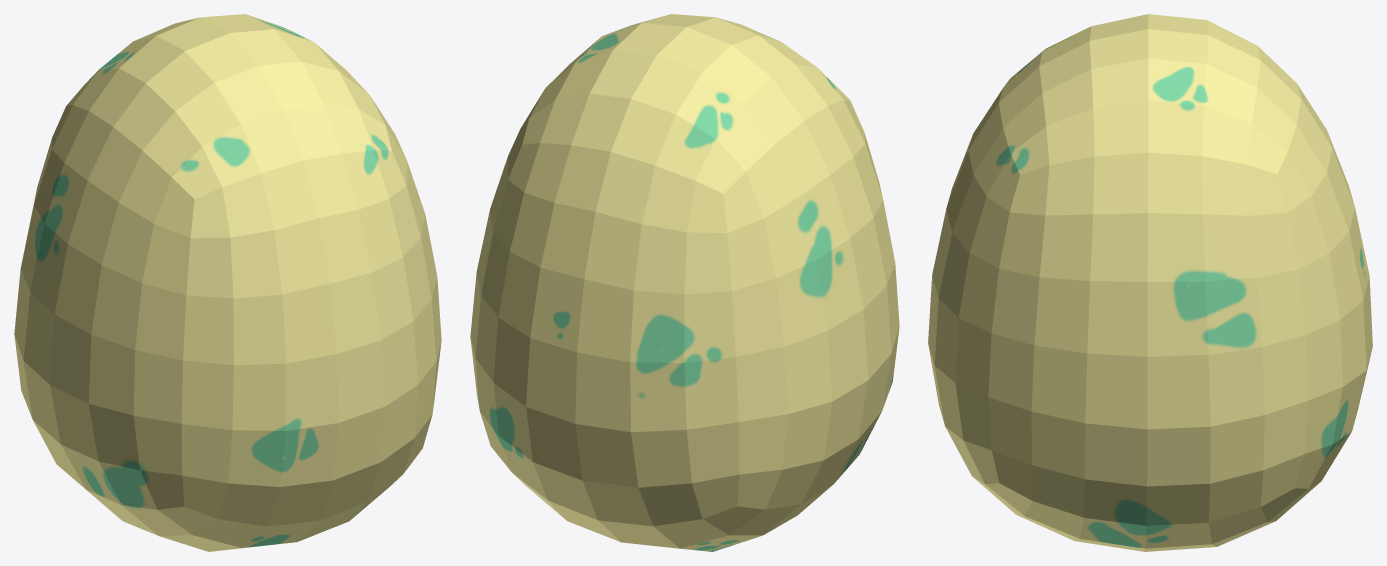
File: egg.fbx
The picture shows the model from 3 angles, left to right: view 1: azimuth 30°, elevation 25°; view 2: azimuth 150°, elevation 25°; view 3: azimuth 270°, elevation 25°; orthographic projection.
Parts seen in each view (by area): view 1: Cube; view 2: Cube; view 3: Cube.
Part boxes in pixels (x1=…): Cube: x1=14, y1=14, x2=441, y2=551; Cube: x1=470, y1=14, x2=899, y2=551; Cube: x1=928, y1=14, x2=1372, y2=551.
Size of the model in its own units: 29.94 by 39.31 by 31.65.
1 material, 1 textured.
